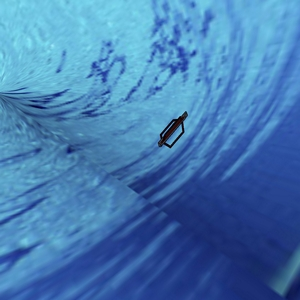submarine: (147, 99, 204, 163)
